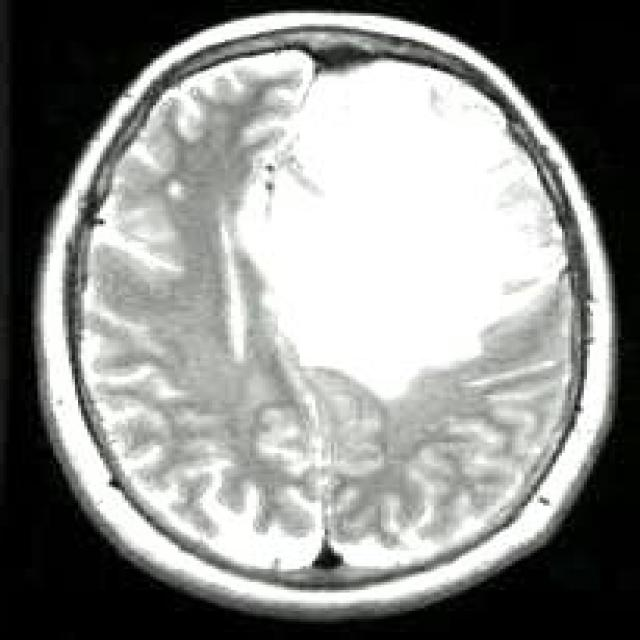Tumor-Cell: (277, 85, 503, 344)
